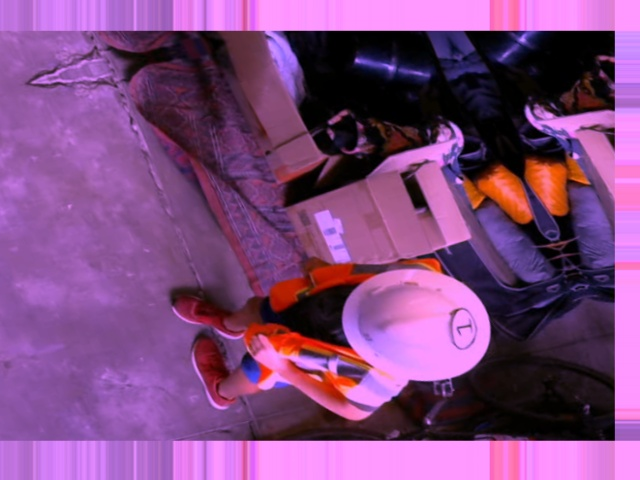one: (441, 305, 484, 351)
